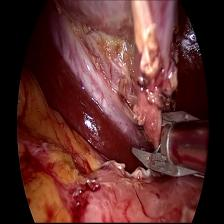Clipper: (130, 101, 204, 190)
